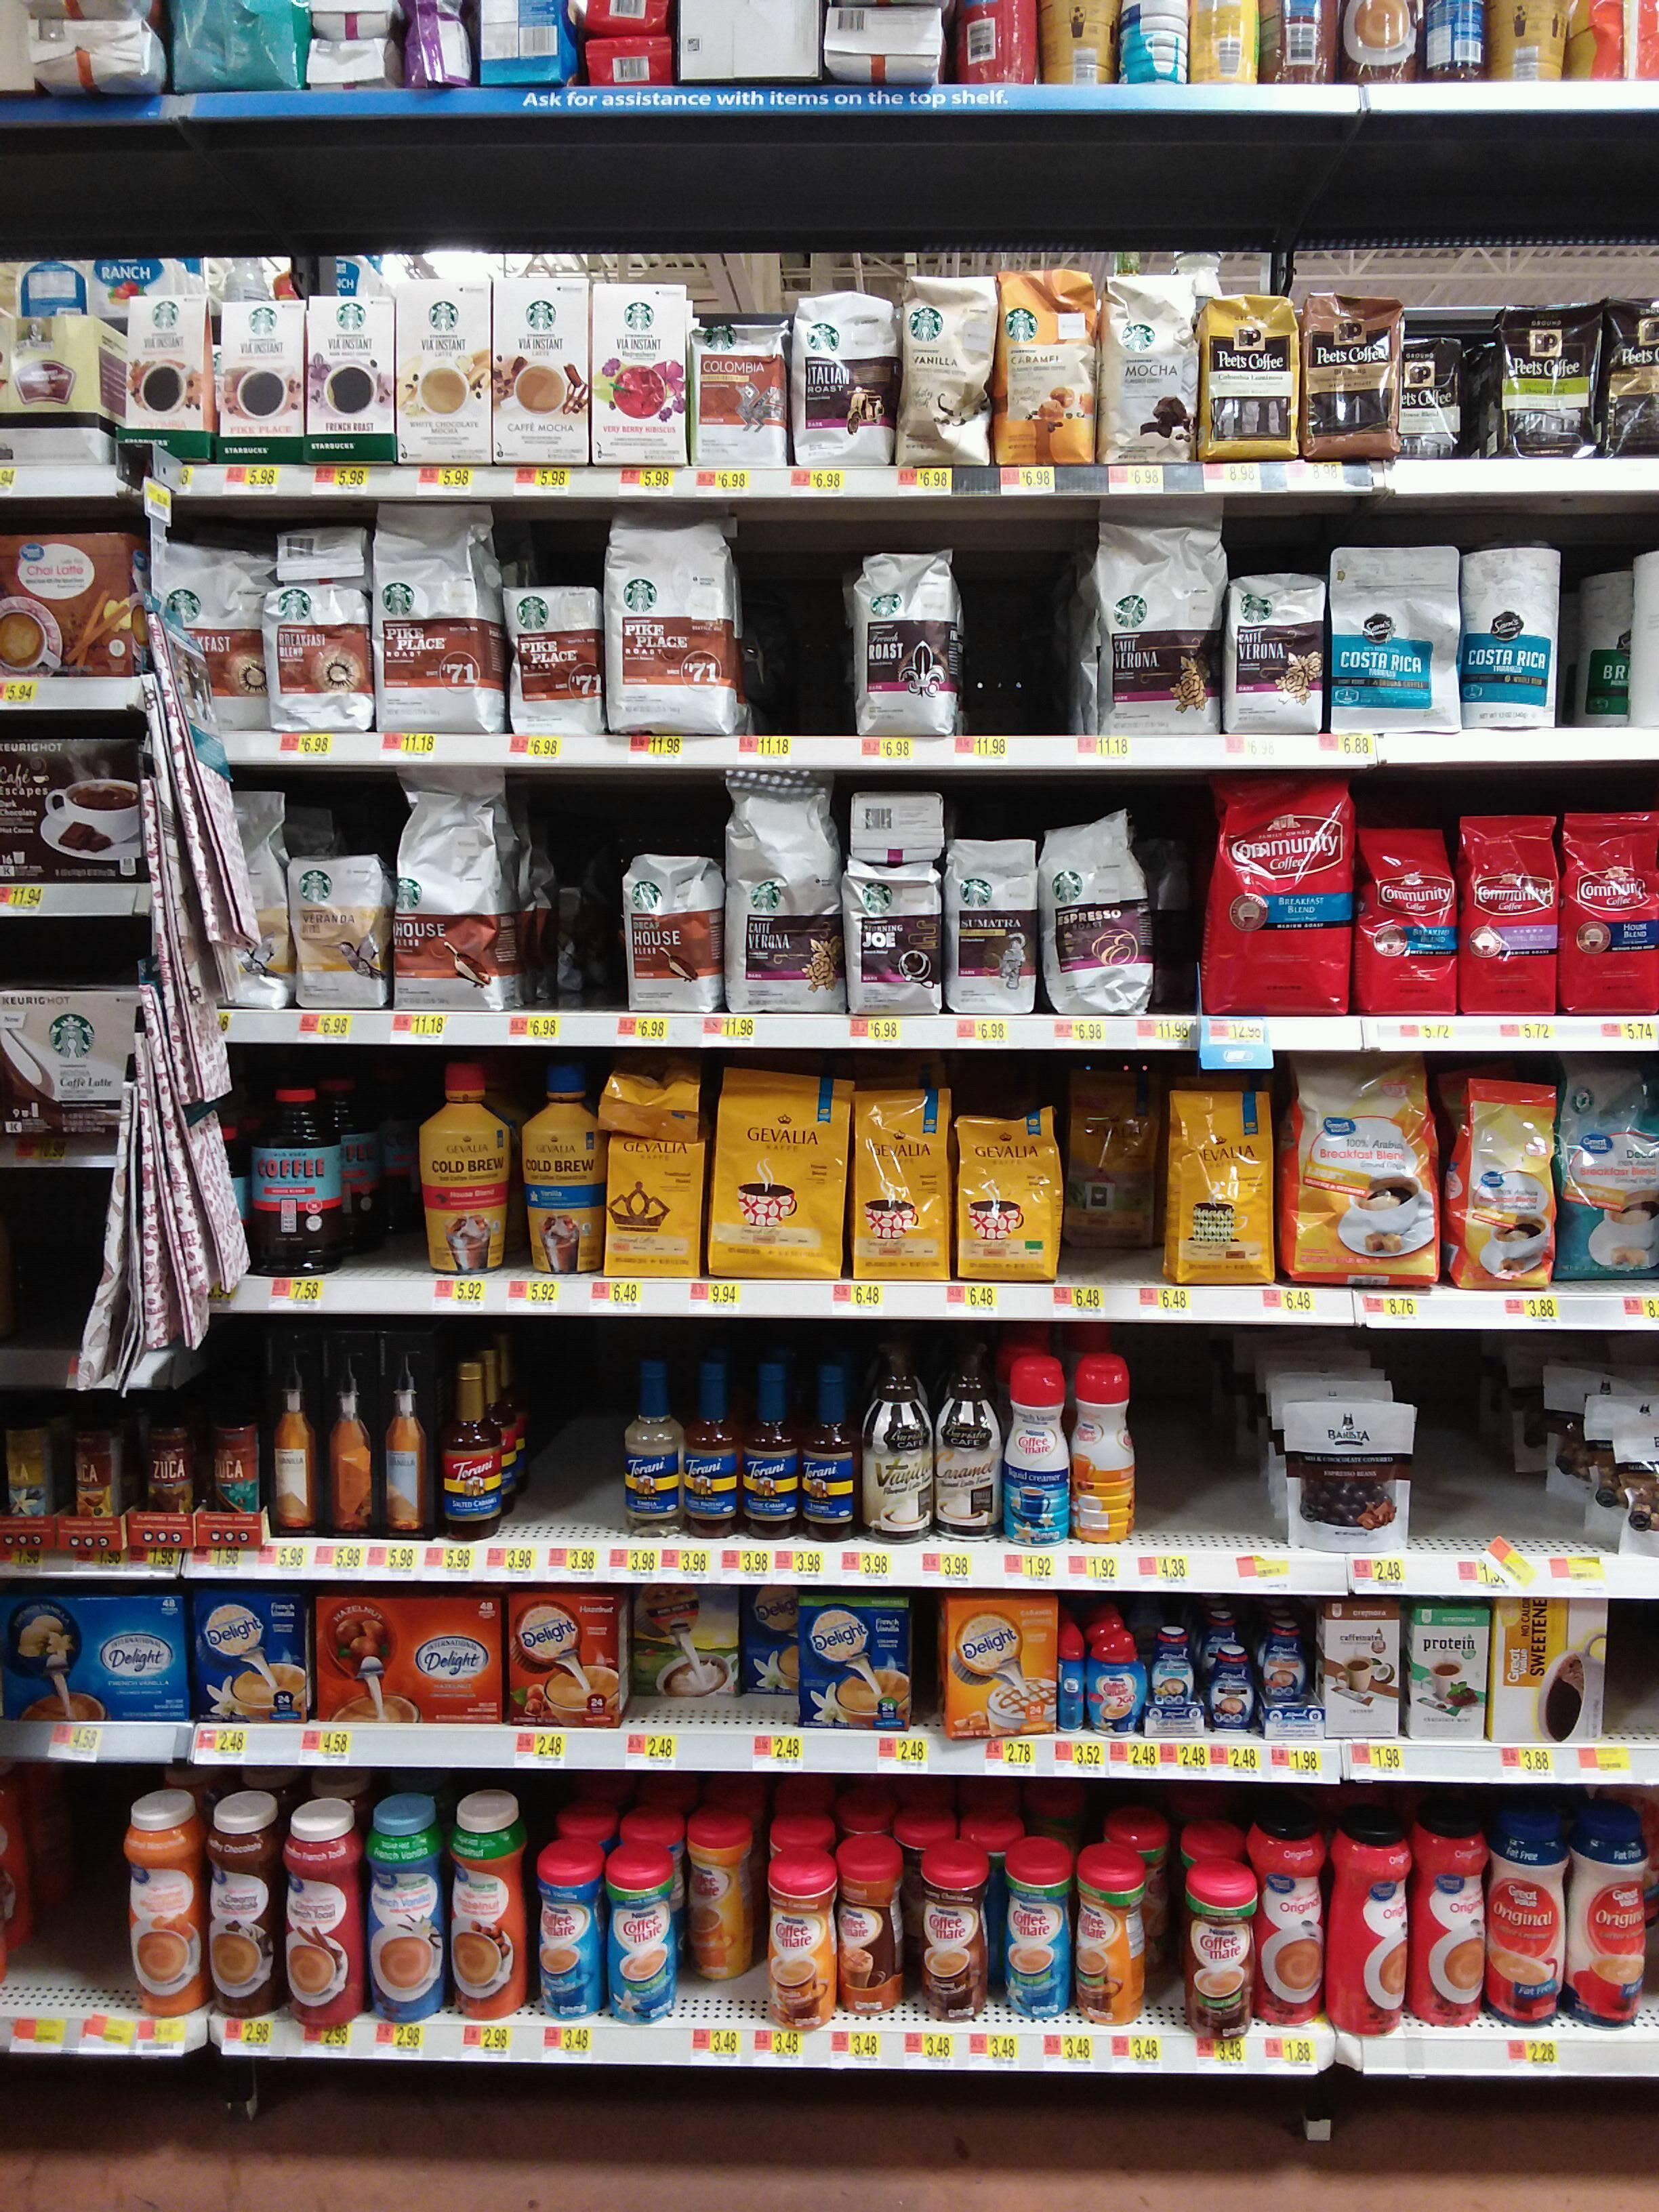empty: (1413, 1388, 1584, 1559), (1126, 1343, 1256, 1552), (10, 1789, 119, 2001), (957, 547, 1075, 733), (505, 1357, 629, 1533), (742, 554, 847, 742), (521, 838, 622, 1022), (343, 1090, 432, 1285), (1070, 1108, 1164, 1278)
